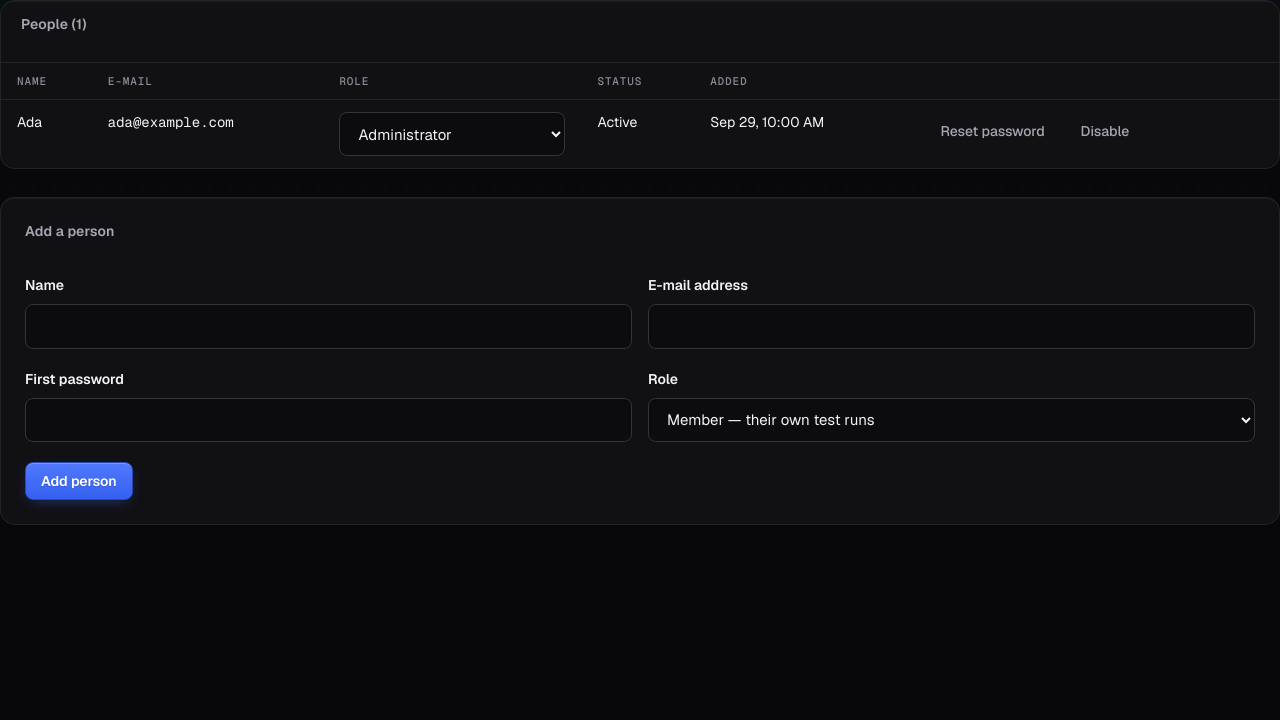
Test: UserAdmin › adds a person, checking the fields first
The width and height of the screenshot is (1280, 720).
Click the button "Add person" at (79, 481), box [25,462,133,500]
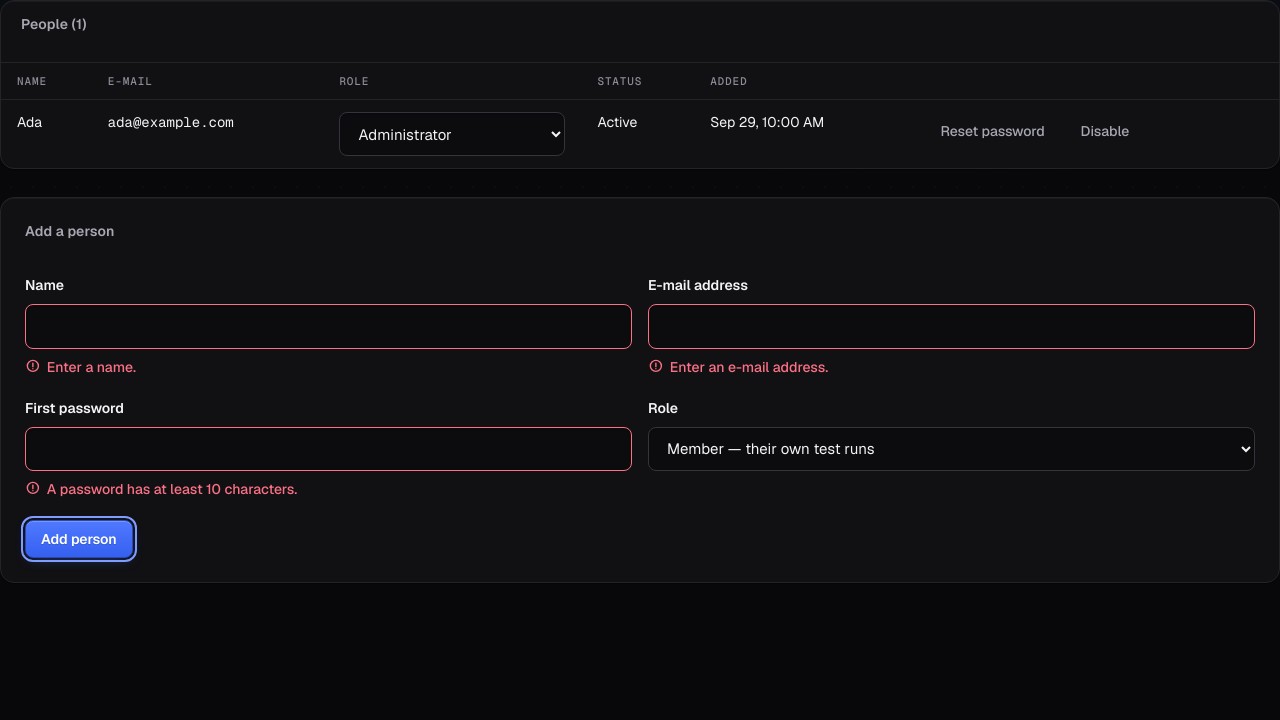
Expected: the text "Enter a name." is shown, [25,358,136,376]
Type "Nia" into the field labelled "Name" at (328, 327), box [25,304,632,349]
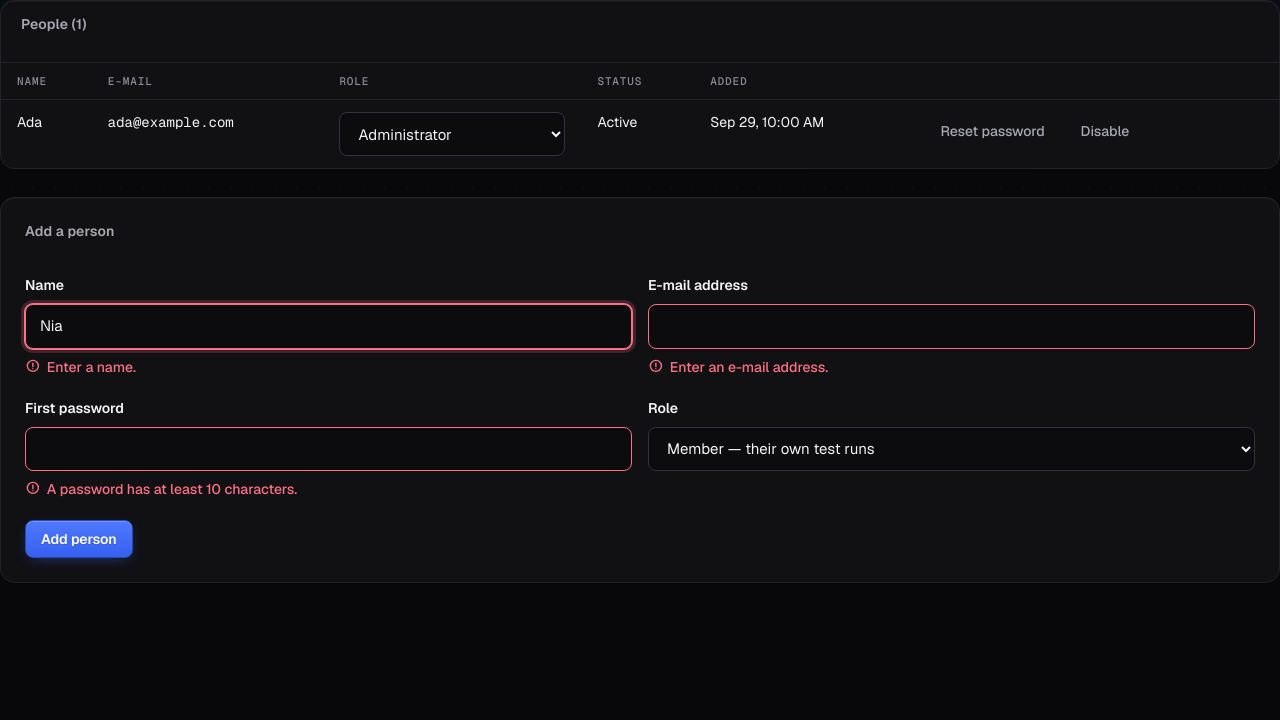
Type "nia@example.com" into the field labelled "E-mail address" at (952, 327), box [648,304,1255,349]
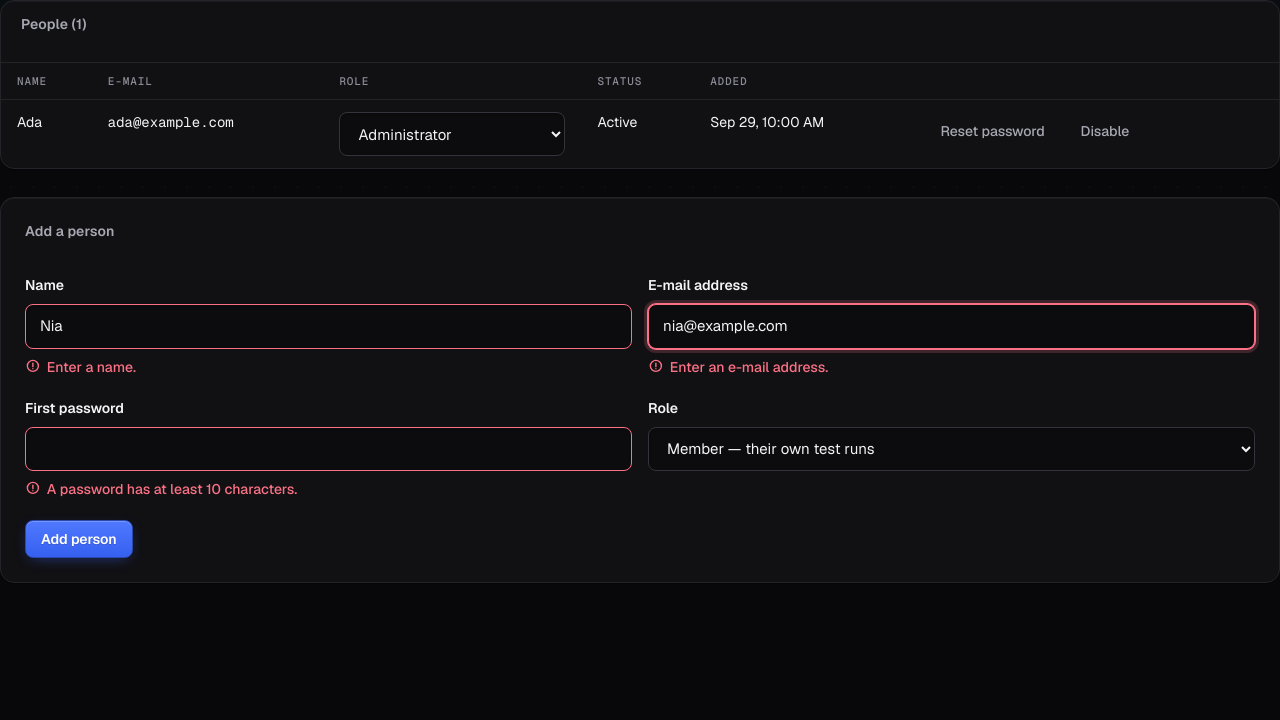
Type "first password" into the password field labelled "First password" at (328, 449), box [25,427,632,471]
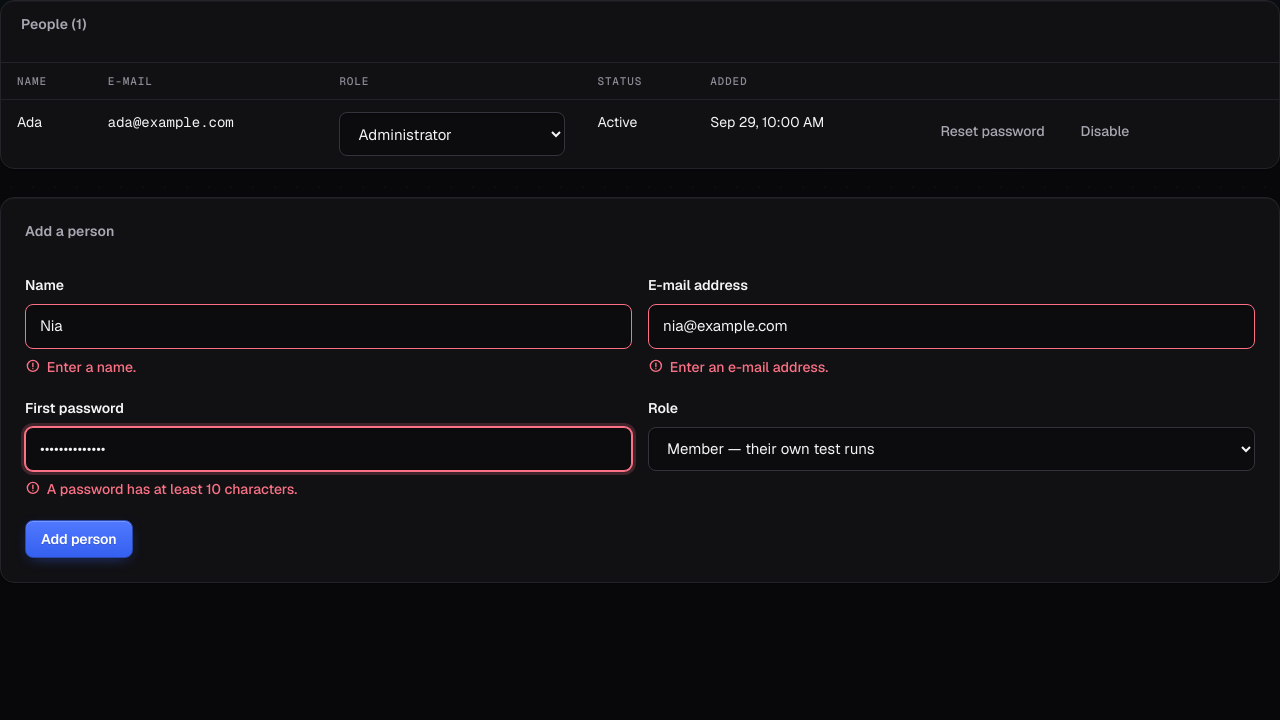
Click the button "Add person" at (79, 539), box [25,520,133,558]
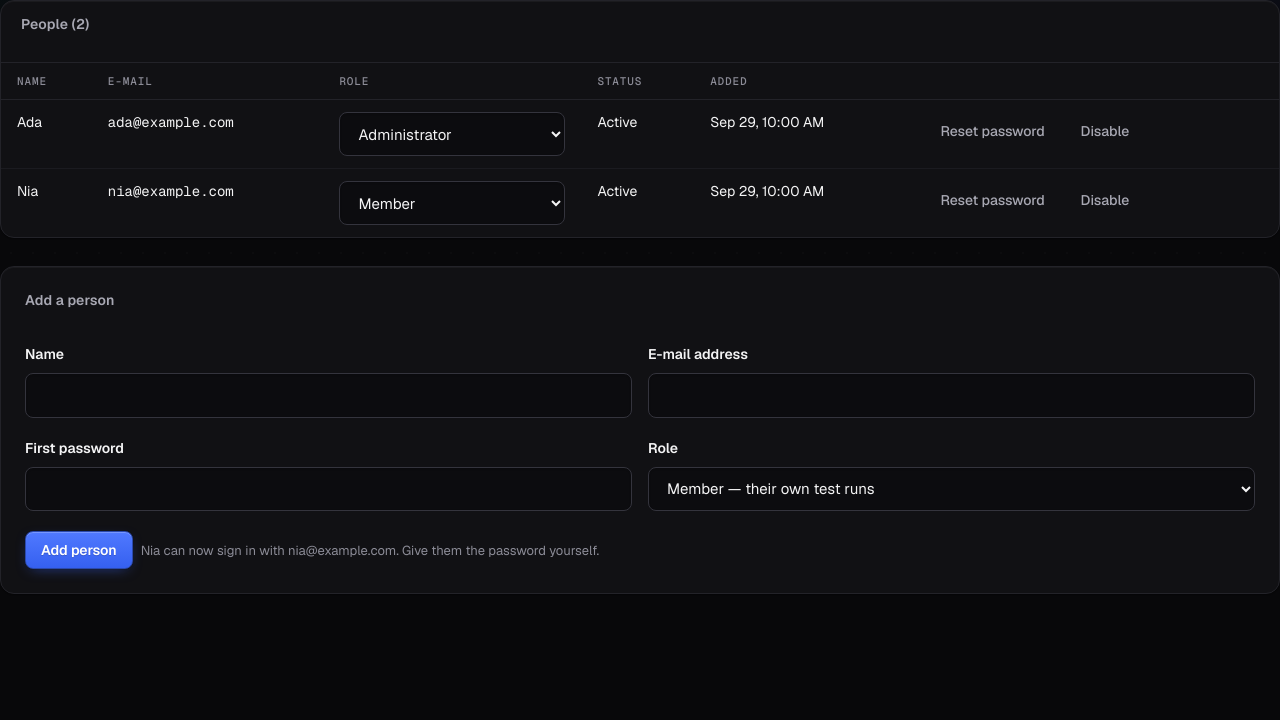
Expected: the message shows "Nia can now sign in with nia@example.com", [141,542,599,558]
Expected: the heading "People (2)" is shown, [21,15,90,34]
